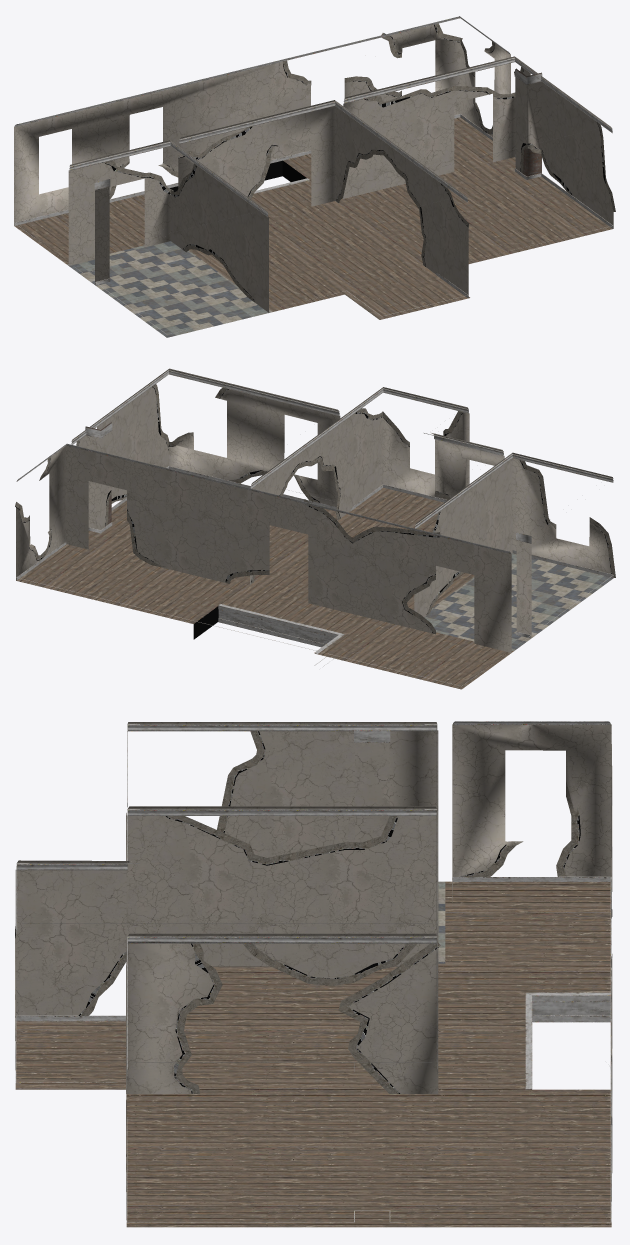
Rendered from mh_first_floor.glb.
3 renders of one model, top to bottom at view 1: azimuth 30°, elevation 25°; view 2: azimuth 150°, elevation 25°; view 3: azimuth 270°, elevation 25°, orthographic. The views are drawn at different scales.
Parts seen in each view (by area): view 1: mh_first_floor_LOD0; view 2: mh_first_floor_LOD0; view 3: mh_first_floor_LOD0.
Boxes of the visible parts, x1=… form: mh_first_floor_LOD0: x1=14, y1=16, x2=615, y2=337; mh_first_floor_LOD0: x1=15, y1=368, x2=615, y2=689; mh_first_floor_LOD0: x1=15, y1=721, x2=612, y2=1227.
Bounding box in the file's own units: 14.88 × 3.79 × 10.86.
6 materials, 6 textured.
